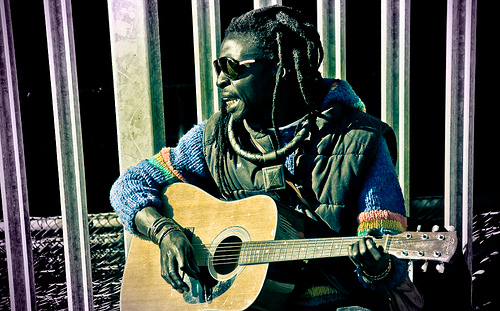guitar: (113, 179, 459, 311)
